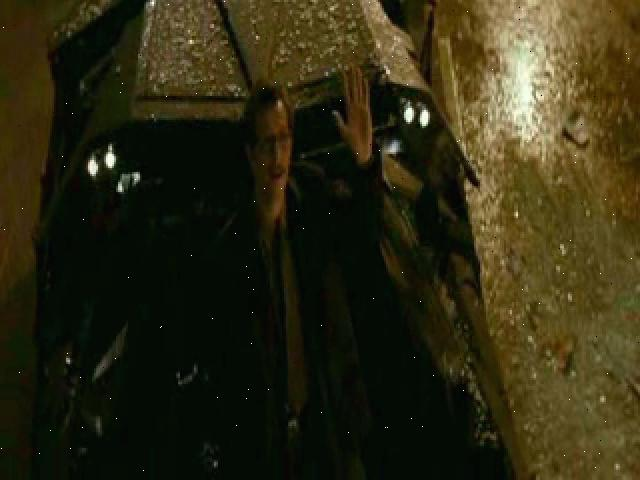L: (112, 79, 388, 480)
